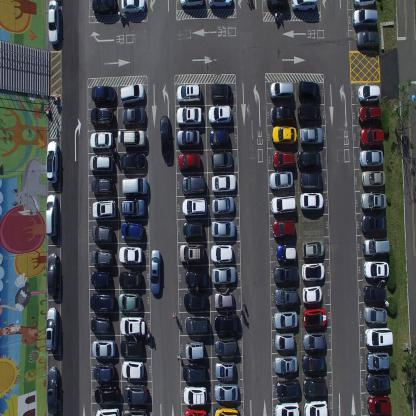car: (47, 364, 60, 414), (364, 326, 393, 347), (182, 195, 208, 218), (46, 306, 59, 352), (45, 192, 58, 237), (120, 82, 145, 105), (210, 172, 236, 194), (360, 190, 386, 212), (269, 104, 295, 126), (270, 193, 296, 215), (91, 84, 117, 106), (46, 140, 59, 184), (119, 315, 146, 336), (362, 236, 390, 256), (48, 0, 60, 46), (149, 248, 161, 294), (301, 352, 326, 374), (273, 308, 298, 330), (181, 172, 206, 194), (122, 152, 147, 174), (302, 376, 327, 398), (299, 190, 324, 212), (273, 264, 298, 286), (367, 394, 392, 416), (273, 284, 299, 305), (361, 213, 387, 234), (159, 114, 171, 159), (214, 334, 238, 356), (299, 126, 323, 148), (208, 103, 232, 125), (303, 305, 327, 327), (302, 330, 326, 352), (184, 385, 208, 407), (276, 377, 301, 398), (94, 383, 119, 404), (123, 383, 148, 404), (214, 312, 240, 332), (363, 259, 389, 279), (179, 242, 205, 262), (120, 198, 146, 218), (351, 8, 378, 27), (297, 148, 320, 170), (297, 102, 320, 124), (210, 149, 233, 171), (183, 361, 206, 383), (274, 353, 298, 374), (120, 220, 144, 241), (357, 105, 381, 126), (177, 83, 201, 104), (178, 150, 202, 171), (90, 106, 114, 127), (92, 198, 116, 219), (269, 80, 293, 101), (90, 290, 115, 310), (118, 244, 143, 264), (359, 127, 384, 147), (184, 268, 209, 288), (183, 290, 208, 310), (89, 154, 114, 174), (184, 316, 210, 335), (47, 252, 58, 296), (119, 268, 142, 289), (90, 130, 113, 151), (92, 337, 116, 357), (365, 351, 389, 371), (120, 359, 144, 379), (117, 290, 141, 310), (362, 283, 386, 303), (361, 169, 385, 189), (269, 170, 293, 190), (122, 106, 146, 126), (211, 195, 235, 215), (356, 30, 380, 50), (214, 382, 239, 401), (363, 304, 388, 323), (176, 106, 202, 124), (122, 177, 148, 195), (274, 331, 296, 352), (91, 247, 114, 267), (300, 171, 323, 191), (272, 217, 295, 237), (210, 243, 233, 263), (359, 148, 383, 167), (122, 129, 146, 148), (212, 266, 236, 285), (365, 373, 390, 391), (271, 126, 296, 144), (211, 220, 236, 238), (209, 127, 230, 148), (182, 218, 204, 238), (298, 80, 320, 100), (91, 224, 114, 243), (357, 84, 380, 103), (302, 261, 325, 280), (91, 177, 114, 196), (176, 128, 200, 146), (302, 284, 322, 305), (211, 82, 232, 102), (184, 340, 205, 360), (276, 242, 297, 262), (272, 150, 294, 169), (302, 239, 324, 258), (274, 400, 300, 416), (92, 362, 115, 380), (120, 339, 143, 357), (303, 400, 328, 416), (90, 314, 112, 332), (214, 360, 236, 378), (91, 269, 111, 288), (214, 291, 234, 309), (92, 0, 116, 15), (121, 0, 145, 14), (289, 0, 316, 12), (214, 405, 240, 415), (123, 405, 148, 415), (94, 405, 119, 415), (207, 0, 233, 8), (351, 0, 376, 8), (267, 0, 289, 9), (184, 408, 207, 416), (179, 0, 203, 7)
